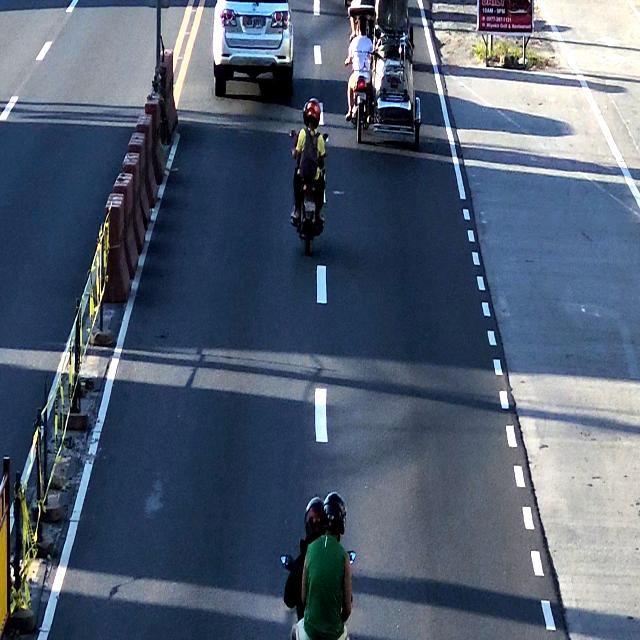Car: (211, 0, 295, 103)
License-Plate: (241, 12, 268, 29)
Motorcycle: (284, 490, 364, 640), (291, 96, 330, 248)
Tricycle: (346, 0, 415, 138)
